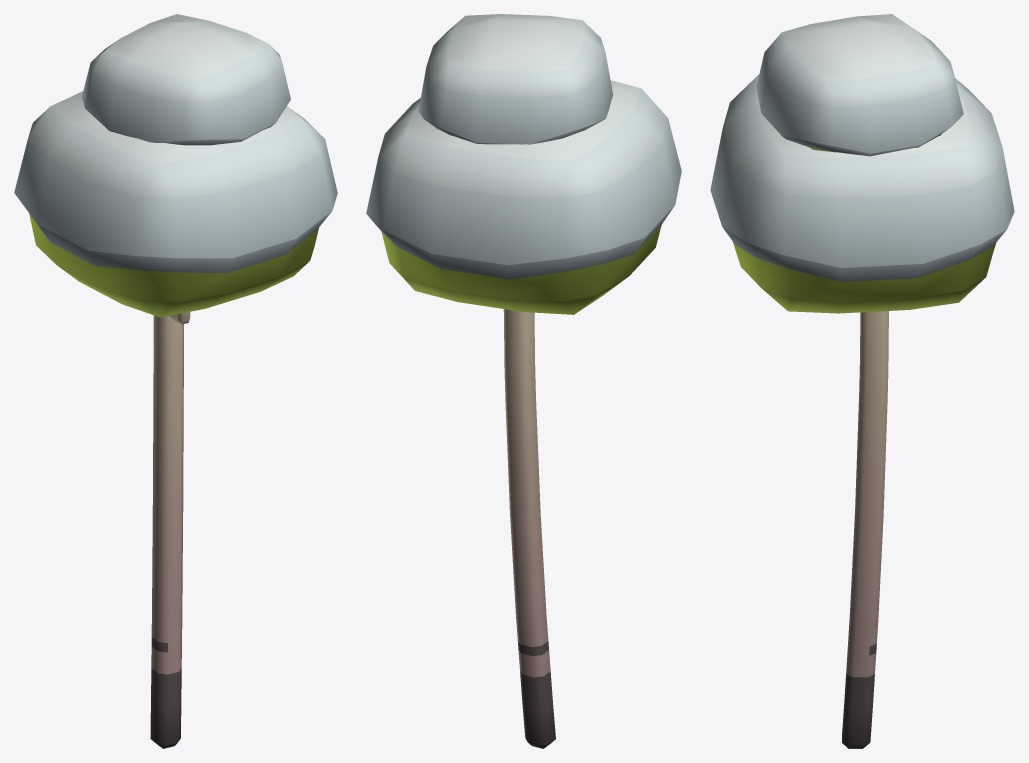
File: birch_tree_col1_09_snow.fbx
3 views of the same model, side by side, from view 1: azimuth 30°, elevation 25°; view 2: azimuth 150°, elevation 25°; view 3: azimuth 270°, elevation 25° (orthographic). The views are drawn at different scales.
Visible parts, largest first — view 1: birch_tree_col1_09_snow; view 2: birch_tree_col1_09_snow; view 3: birch_tree_col1_09_snow.
Part boxes in pixels (<box>): birch_tree_col1_09_snow: <box>14,14,337,748</box>; birch_tree_col1_09_snow: <box>366,14,681,748</box>; birch_tree_col1_09_snow: <box>710,14,1014,748</box>.
Size of the model in its own units: 188 by 489 by 187.
1 material, 1 textured.
